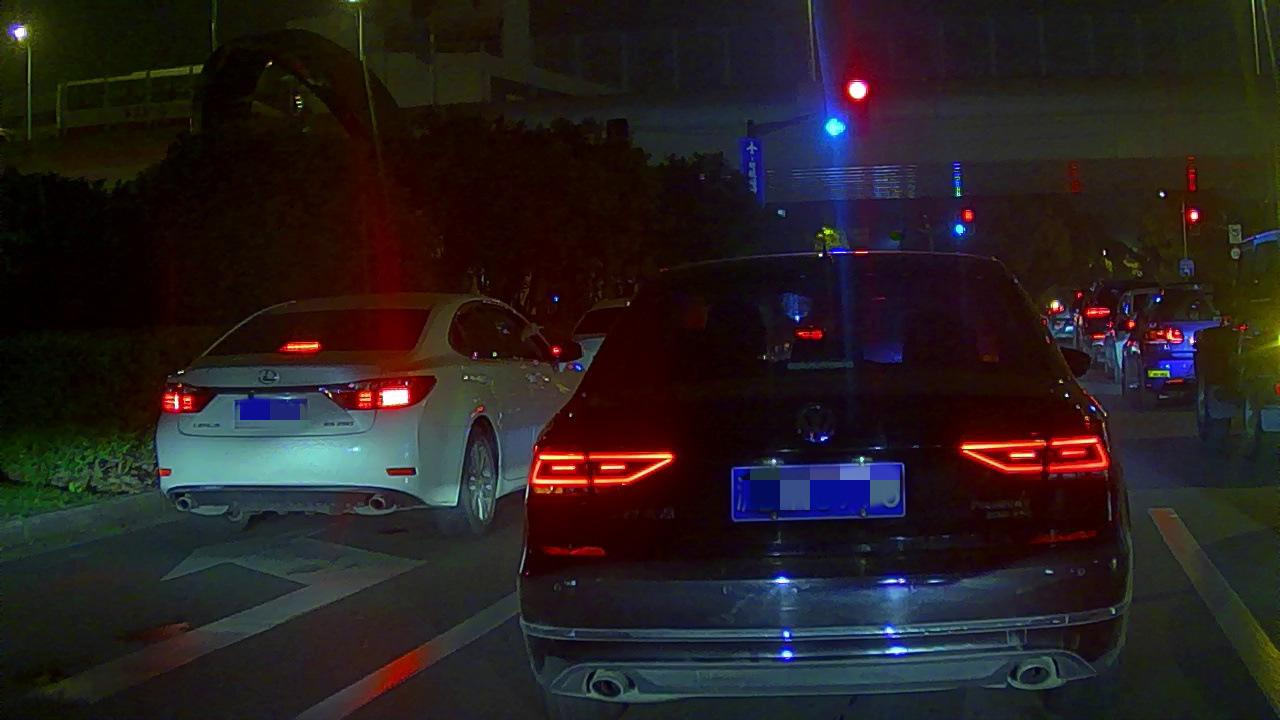traffic_light: (825, 116, 845, 138), (847, 79, 867, 99)
